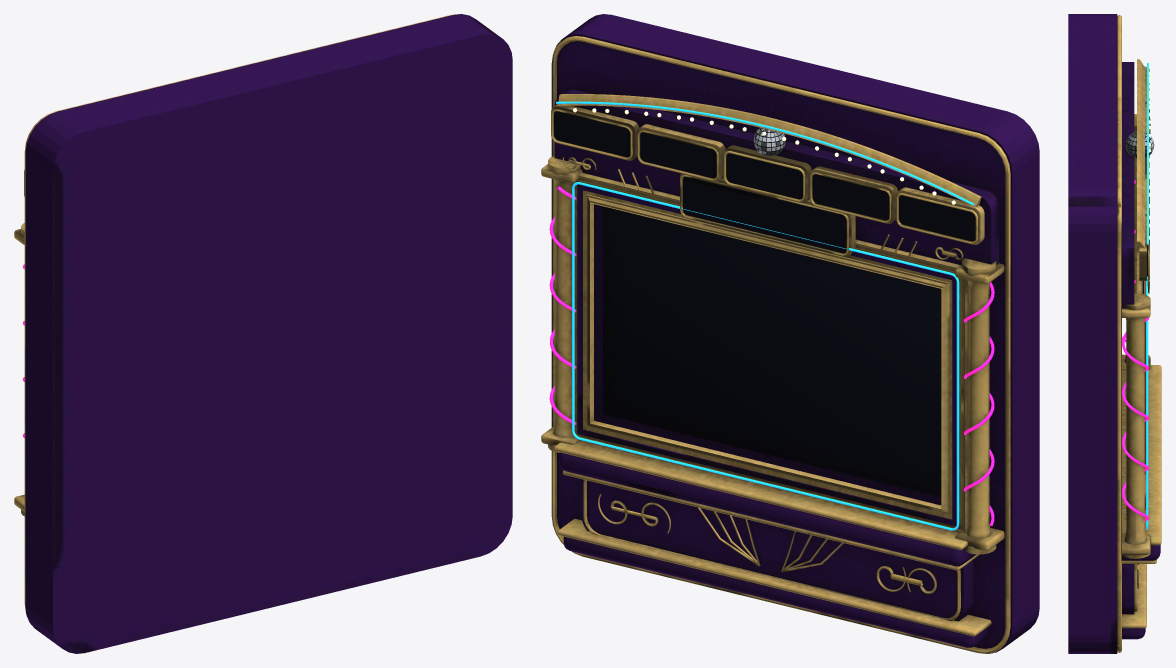
3 views of the same model, side by side, from view 1: azimuth 30°, elevation 25°; view 2: azimuth 150°, elevation 25°; view 3: azimuth 270°, elevation 25° (orthographic). The views are drawn at different scales.
Visible parts, largest first — view 1: Royal_purple_velvet, Champagne_polished_gold; view 2: Royal_purple_velvet, Uniform_dark_display_glass, Champagne_polished_gold, Electric_blue_neon_glow, Hot_pink_neon_glow; view 3: Royal_purple_velvet, Champagne_polished_gold, Electric_blue_neon_glow, Hot_pink_neon_glow, Silver_mirror_mosaic, Uniform_dark_display_glass, Warm_marquee_bulb_glow.
Boxes of the visible parts, <box> form: Royal_purple_velvet: <box>25,14,512,653</box>; Champagne_polished_gold: <box>14,14,459,613</box>; Royal_purple_velvet: <box>554,14,1039,653</box>; Uniform_dark_display_glass: <box>554,111,975,496</box>; Champagne_polished_gold: <box>541,36,1010,653</box>; Electric_blue_neon_glow: <box>556,101,974,530</box>; Hot_pink_neon_glow: <box>549,186,994,526</box>; Royal_purple_velvet: <box>1068,14,1160,653</box>; Champagne_polished_gold: <box>1117,15,1161,652</box>; Electric_blue_neon_glow: <box>1146,62,1148,529</box>; Hot_pink_neon_glow: <box>1122,180,1148,521</box>; Silver_mirror_mosaic: <box>1125,131,1154,158</box>; Uniform_dark_display_glass: <box>1126,132,1153,276</box>; Warm_marquee_bulb_glow: <box>1149,72,1150,239</box>.
Bounding box in the file's own units: 8.95 × 9.7 × 1.77.
7 materials, 4 textured.
